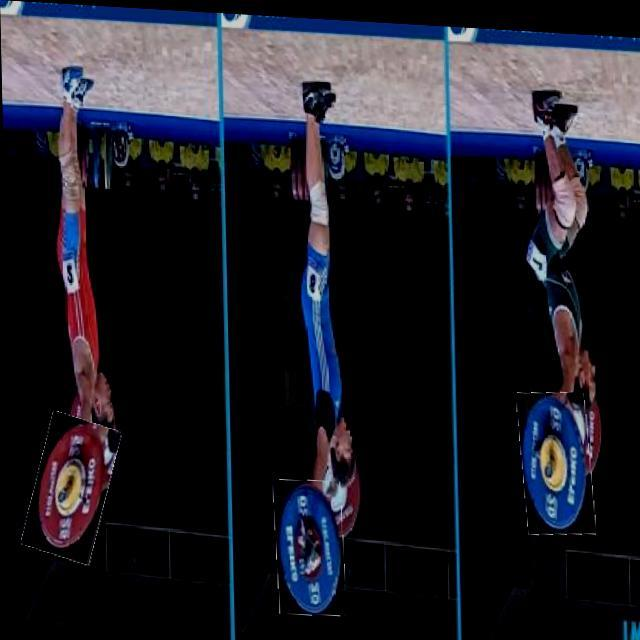barbell: (26, 413, 115, 564), (518, 385, 593, 531), (272, 476, 344, 614)
